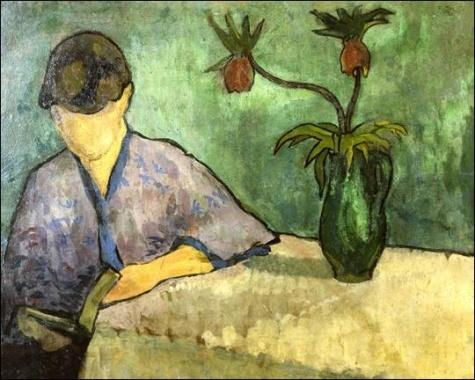person: (10, 31, 274, 351)
